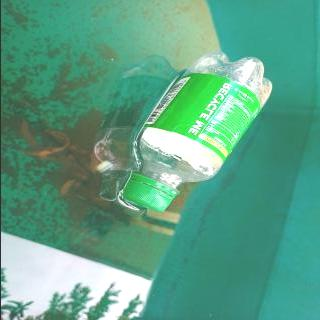bottle: (119, 52, 272, 214)
